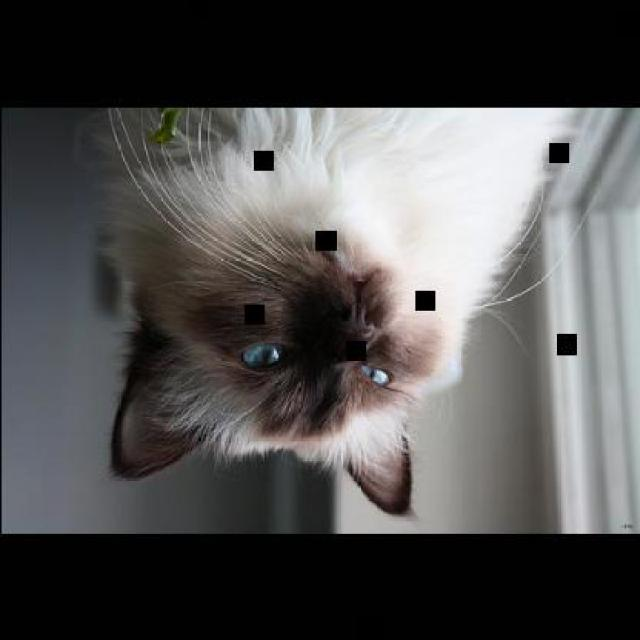unauthorized: (84, 106, 582, 517)
